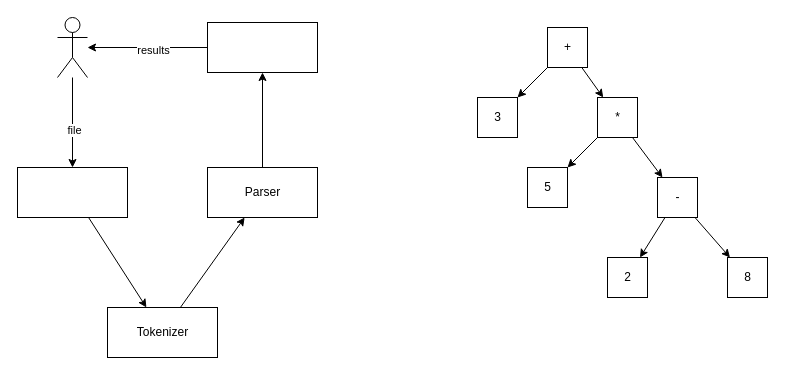
Image size: 785x375. Some labels were removed from this diagram. The centre of each missing label's shape, as x and y in pixels:
"Reader" goes at pixel 72 192.
"Solver" goes at pixel 262 47.
